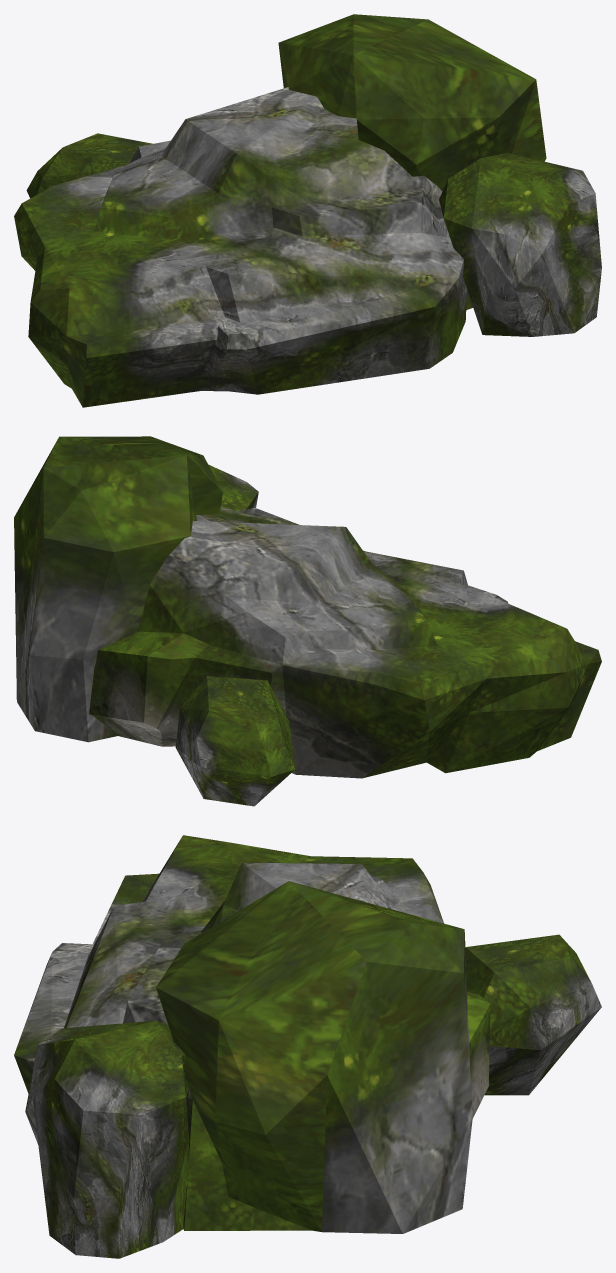
Rendered from Item_3002_shitou_shitou_06.FBX.
3 views of the same model, one above another, from view 1: azimuth 30°, elevation 25°; view 2: azimuth 150°, elevation 25°; view 3: azimuth 270°, elevation 25° (orthographic). The views are drawn at different scales.
Parts seen in each view (by area): view 1: Item_3002_shitou_shitou_06; view 2: Item_3002_shitou_shitou_06; view 3: Item_3002_shitou_shitou_06.
Boxes of the visible parts, left/top/right/bottom form: Item_3002_shitou_shitou_06: left=14, top=14, right=601, bottom=407; Item_3002_shitou_shitou_06: left=14, top=436, right=601, bottom=806; Item_3002_shitou_shitou_06: left=14, top=835, right=601, bottom=1258.
Size of the model in its own units: 543 by 238 by 440.
